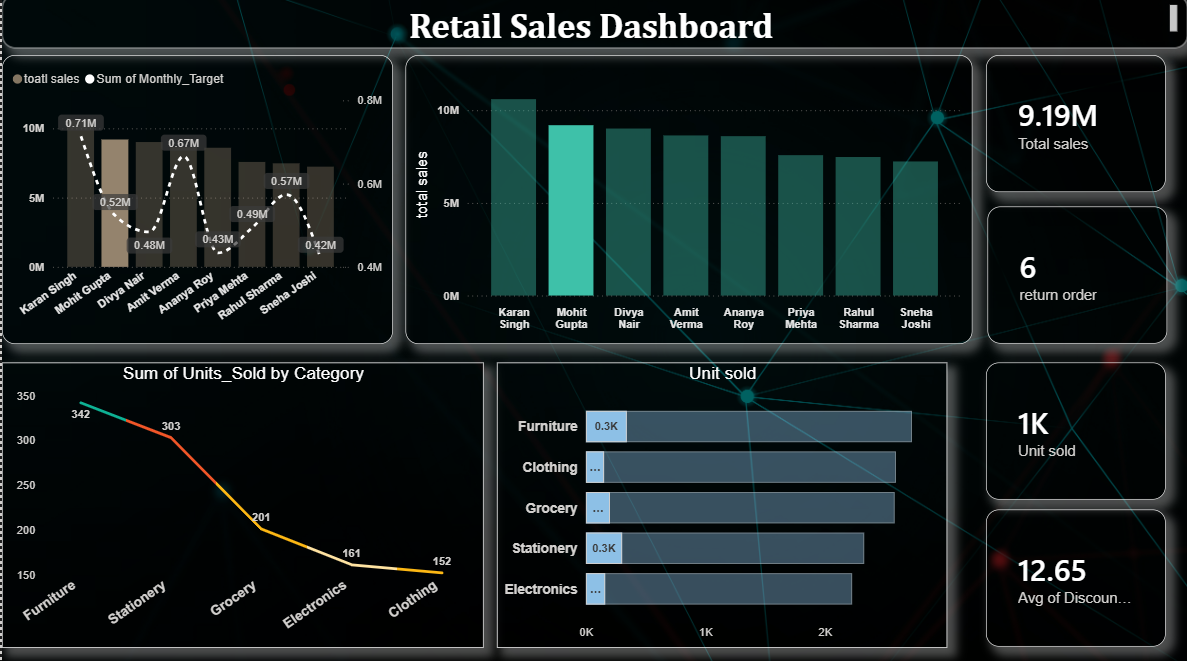

This screenshot's page, from the dashboard's own definition file:
{"tool":"powerbi","page":{"name":"Page 1","canvas":[1280,720],"ordinal":0},"visuals":[{"type":"barChart","title":"Unit sold","fields":{"Category":["Sales_Raw.Category","Sales_Raw.Customer_Type"],"Y":["Sum(Sales_Raw.Units_Sold)"]},"box":[534,396,486,308],"z":0},{"type":"cardVisual","fields":{"Data":["Inventory.return order"]},"box":[1064,228,194,148],"z":1000},{"type":"lineChart","fields":{"Category":["Sales_Raw.Category"],"Y":["Sum(Sales_Raw.Units_Sold)"]},"box":[0,396,520,308],"z":2000},{"type":"clusteredColumnChart","fields":{"Category":["Sales_Raw.Salesperson"],"Y":["Inventory.toatl sales"]},"box":[436,64,612,312],"z":3000},{"type":"cardVisual","fields":{"Data":["Sum(Sales_Raw.Units_Sold)"]},"box":[1062,396,194,148],"z":4000},{"type":"cardVisual","fields":{"Data":["Avg(Sales_Raw.Discount_%)"]},"box":[1062,556,194,148],"z":5000},{"type":"cardVisual","fields":{"Data":["Inventory.toatl sales"]},"box":[1062,64,194,148],"z":5002},{"type":"lineClusteredColumnComboChart","fields":{"Category":["Targets.Salesperson"],"Y":["Inventory.toatl sales"],"Y2":["Sum(Targets.Monthly_Target)"]},"box":[0,64,422,312],"z":5003},{"type":"textbox","box":[0,0,1280,57],"z":5004}]}

Visuals, with their boxes in screenshot pixels (x1, y1, x2, y2), scaled from the page's 1280x720 canvas onto the 1187x661 screenshot:
"Unit sold" barChart: crop(495, 364, 946, 646)
cardVisual - Inventory.return order: crop(987, 209, 1167, 345)
lineChart - Sales_Raw.Category x Sum(Sales_Raw.Units_Sold): crop(0, 364, 482, 646)
clusteredColumnChart - Sales_Raw.Salesperson x Inventory.toatl sales: crop(404, 59, 972, 345)
cardVisual - Sum(Sales_Raw.Units_Sold): crop(985, 364, 1165, 499)
cardVisual - Avg(Sales_Raw.Discount_%): crop(985, 510, 1165, 646)
cardVisual - Inventory.toatl sales: crop(985, 59, 1165, 195)
lineClusteredColumnComboChart - Targets.Salesperson x Inventory.toatl sales: crop(0, 59, 391, 345)
textbox: crop(0, 0, 1186, 52)
